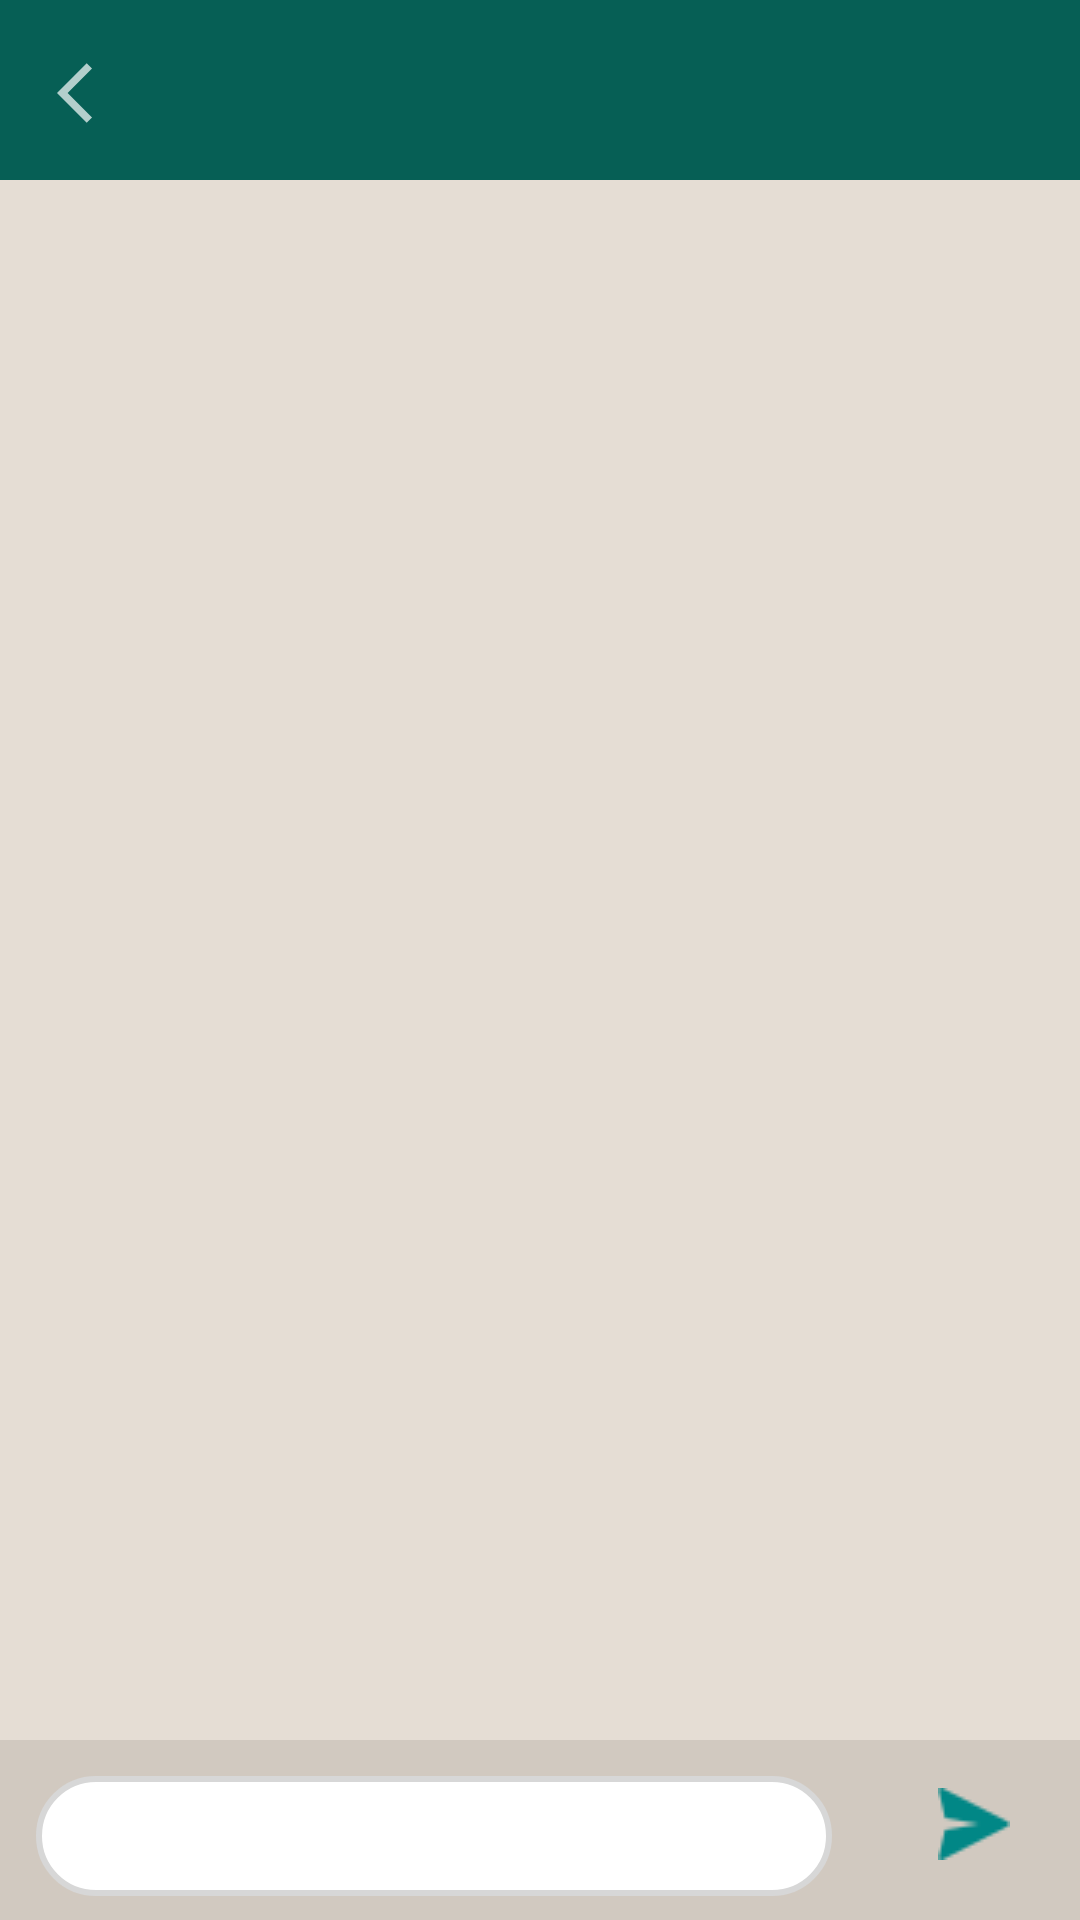

Where to tap for icons on this 1080*1920 app screen, as point (x, y):
arrow back: point (74, 93)
send: point (974, 1824)
